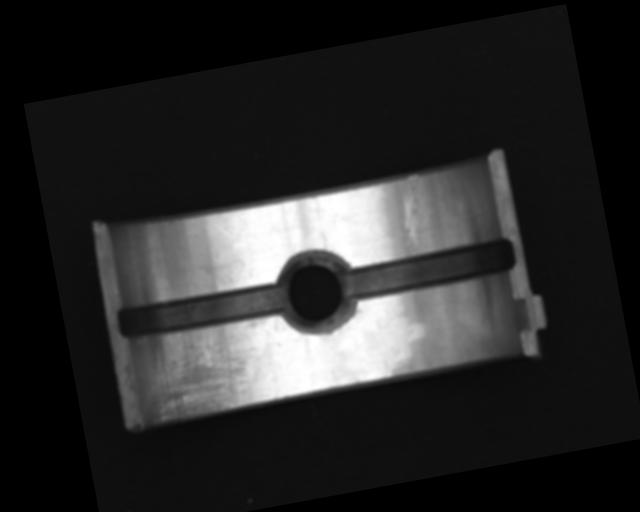gap: (342, 232, 518, 304), (114, 278, 284, 344)
hole: (271, 246, 362, 339)
nick: (393, 173, 431, 249)
scratch: (134, 319, 267, 427)
